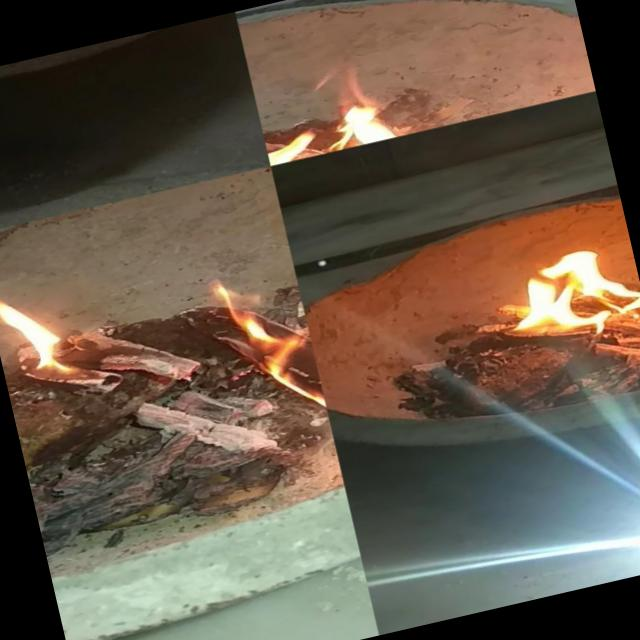fire: (202, 240, 338, 480), (259, 58, 531, 166), (488, 225, 640, 400), (0, 264, 126, 415)
